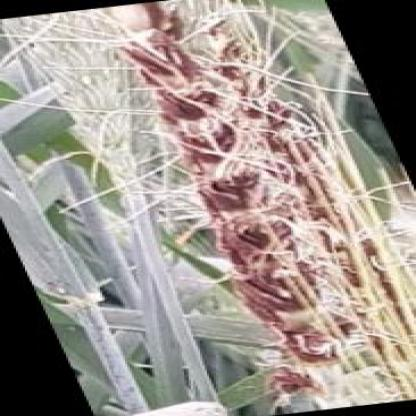Wheat Smut: (201, 170, 256, 211), (221, 216, 280, 251), (164, 88, 224, 122), (176, 126, 235, 158), (260, 130, 307, 160), (239, 259, 286, 288), (145, 68, 202, 88), (148, 4, 187, 33), (292, 337, 337, 361), (298, 182, 328, 216), (245, 289, 286, 312), (280, 365, 312, 393), (122, 44, 170, 61), (220, 40, 257, 60), (215, 77, 253, 95), (211, 66, 258, 80), (332, 244, 356, 269), (341, 276, 366, 290), (243, 103, 266, 118), (260, 316, 286, 324)
